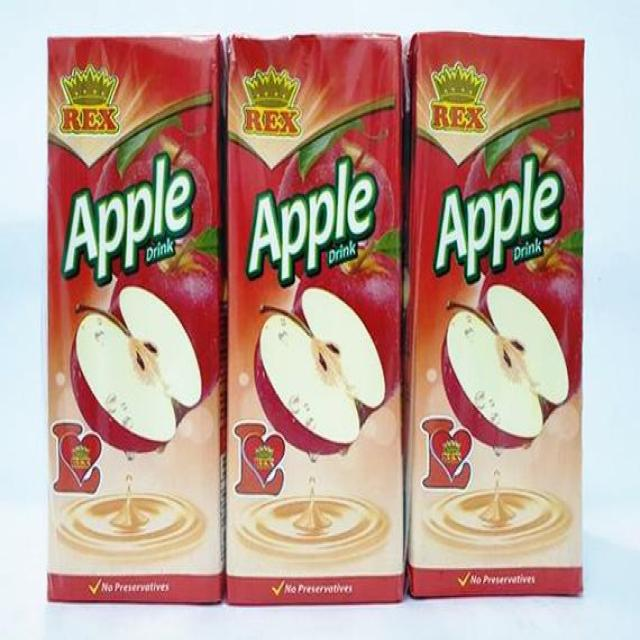drink carton: (224, 27, 404, 604), (45, 35, 225, 605), (408, 23, 584, 598)
